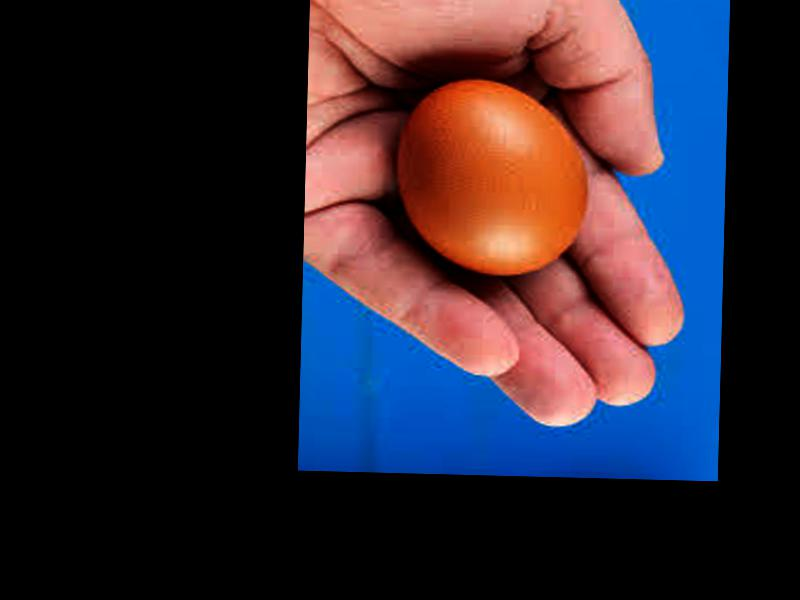Eggs: (398, 78, 589, 280)
